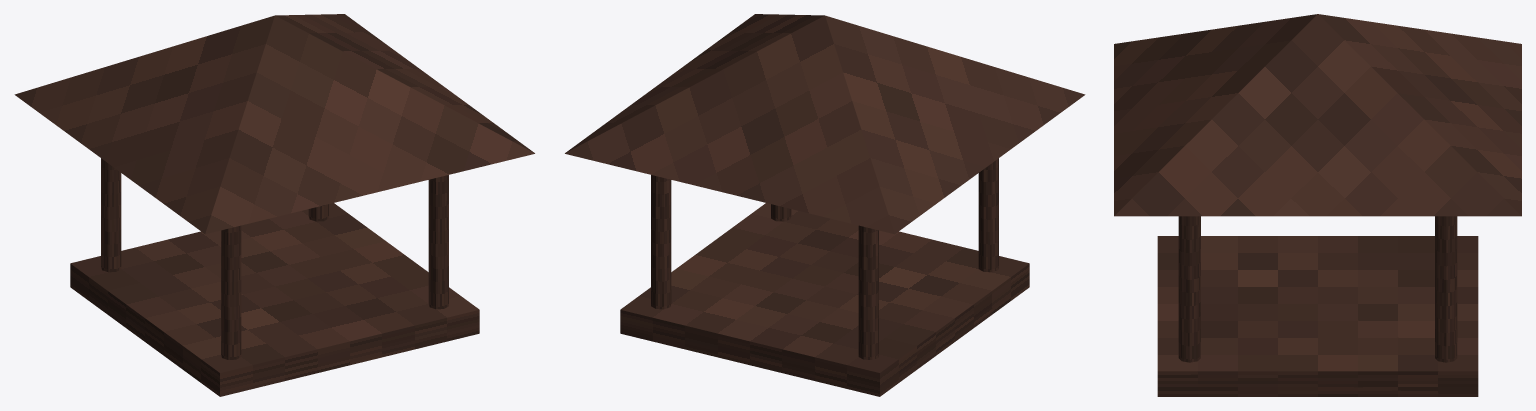
The model's file is pavilion_52.glb.
3 renders of one model, left to right at view 1: azimuth 30°, elevation 25°; view 2: azimuth 150°, elevation 25°; view 3: azimuth 270°, elevation 25°, orthographic. The views are drawn at different scales.
Parts seen in each view (by area): view 1: Roof, Floor, Column, Column.002, Column.001; view 2: Roof, Floor, Column.001, Column.003, Column; view 3: Roof, Floor, Column.002, Column.003.
Boxes of the visible parts, x1=… form: Roof: x1=14, y1=14, x2=534, y2=234; Floor: x1=70, y1=203, x2=479, y2=396; Column: x1=221, y1=225, x2=241, y2=359; Column.002: x1=428, y1=175, x2=448, y2=309; Column.001: x1=101, y1=158, x2=121, y2=272; Roof: x1=565, y1=14, x2=1085, y2=234; Floor: x1=620, y1=203, x2=1029, y2=396; Column.001: x1=858, y1=225, x2=878, y2=359; Column.003: x1=651, y1=175, x2=671, y2=309; Column: x1=978, y1=158, x2=998, y2=272; Roof: x1=1114, y1=14, x2=1521, y2=216; Floor: x1=1157, y1=236, x2=1478, y2=396; Column.002: x1=1178, y1=216, x2=1200, y2=362; Column.003: x1=1435, y1=216, x2=1457, y2=362.
Bounding box in the file's own units: 4.35 × 3.71 × 4.35.
Materials: 1 (1 with a texture image).
